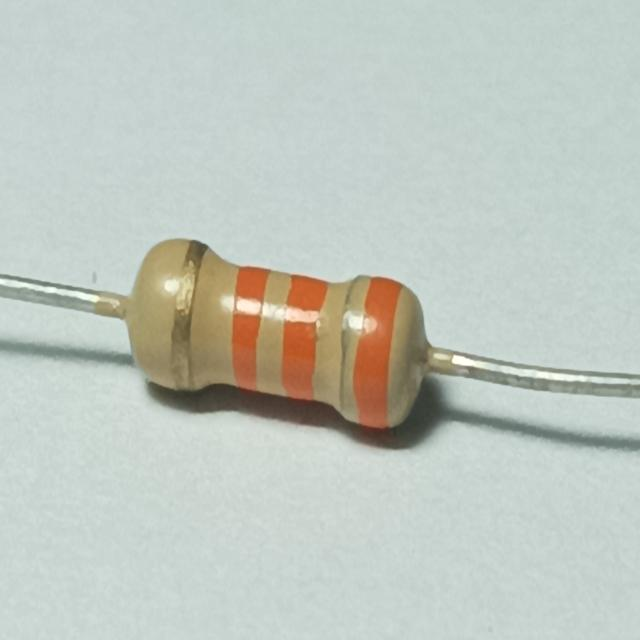33k ohms: (110, 225, 436, 456)
